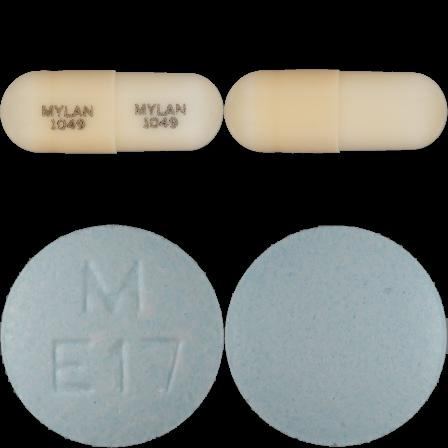0378-1049: (0, 0, 224, 224)
